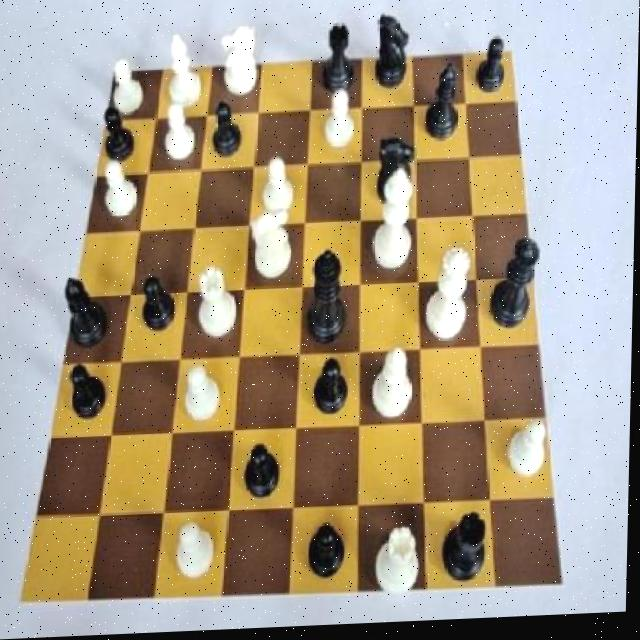bishop: (61, 264, 117, 357), (421, 65, 469, 159)
black-bishop: (302, 243, 353, 351)
black-king: (371, 133, 424, 220), (370, 8, 413, 102)
black-knight: (300, 512, 350, 588), (239, 437, 286, 516), (62, 354, 112, 426), (309, 354, 357, 428), (97, 103, 142, 176), (137, 272, 180, 348), (208, 99, 248, 172), (470, 33, 510, 104)
black-pawn: (491, 232, 547, 343)
black-queen: (439, 511, 499, 594), (321, 24, 365, 107)
black-rook: (369, 345, 422, 427), (158, 28, 208, 112)
white-bishop: (370, 167, 418, 281)
white-king: (215, 15, 266, 106), (246, 211, 296, 295)
white-knight: (170, 513, 222, 589), (180, 359, 231, 432), (100, 155, 148, 230), (505, 421, 554, 490), (156, 96, 201, 170), (109, 53, 150, 122), (320, 86, 361, 155), (261, 156, 300, 226)
white-pawn: (424, 243, 480, 353)
white-queen: (375, 519, 427, 608), (197, 264, 246, 344)
